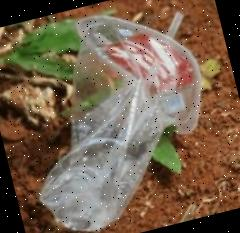plastic: (0, 0, 231, 233)
